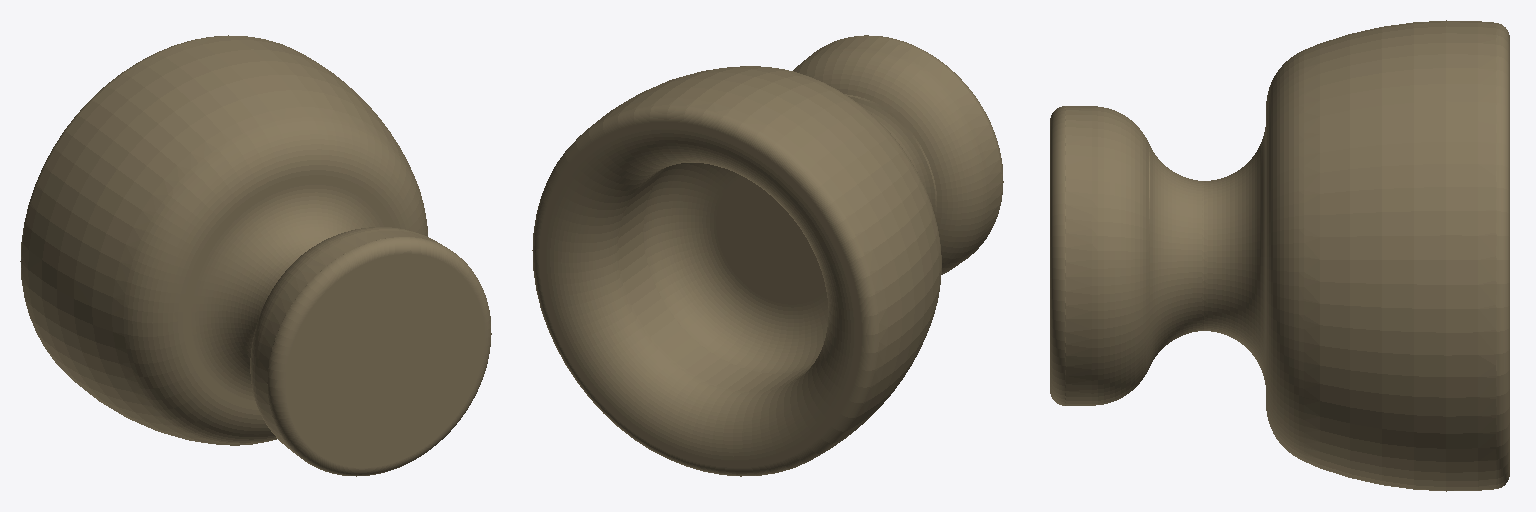
URDF robot description (challisce):
<?xml version="1.0"?>
<robot name="challisce">
  <link name="base_link">
    <visual>
      <origin xyz="0 0 0" rpy="0 0 0" />
      <geometry>
        <mesh filename="challisce.obj"/>      
      </geometry>
      <material name="tan">
        <color rgba="0.55 0.5 0.4 1"/>
      </material>
    </visual>
    <collision>
      <origin xyz="0 0 0" rpy="0 0 0" />
      <geometry>
        <mesh filename="challisce.obj"/>
      </geometry>
    </collision>
  </link>
</robot>

--- Facts derived from the render (not from the file) ---
The picture shows the robot from 3 angles, left to right: view 1: azimuth 30°, elevation 25°; view 2: azimuth 150°, elevation 25°; view 3: azimuth 270°, elevation 25°; orthographic projection.
Model challisce with 1 links and 0 joints (none), rooted at base_link, posed every joint at zero.
Visible links, largest first — view 1: base_link; view 2: base_link; view 3: base_link.
Link boxes in pixels (x1=…): base_link: x1=20, y1=35, x2=491, y2=476; base_link: x1=532, y1=35, x2=1003, y2=476; base_link: x1=1050, y1=20, x2=1509, y2=491.
Size in the robot's own frame: 23.93 by 23.35 by 23.93 metres.
1 mesh visuals loaded from 1 distinct referenced files (1 OBJ).
